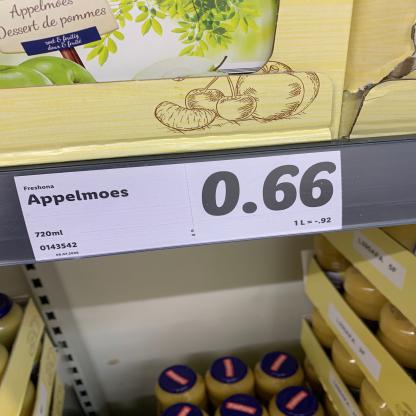prtg: (14, 151, 343, 263)
